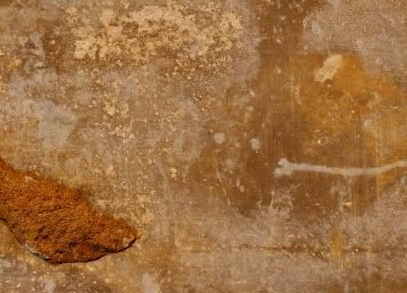Corrosion: (1, 157, 138, 267)
